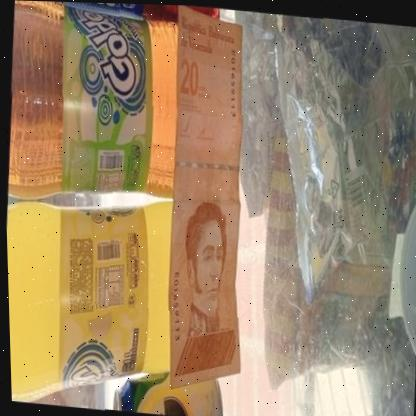vef_front: (150, 4, 265, 395)
